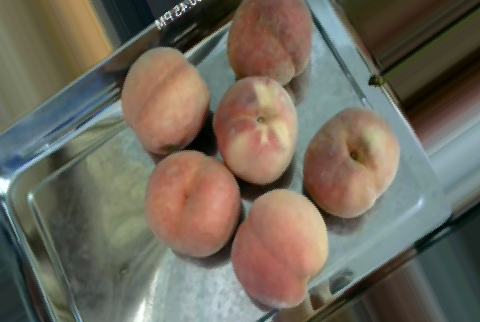Peach: (230, 189, 328, 308), (301, 107, 399, 217), (142, 149, 240, 258), (214, 73, 297, 184), (122, 46, 206, 153), (226, 1, 313, 84)
